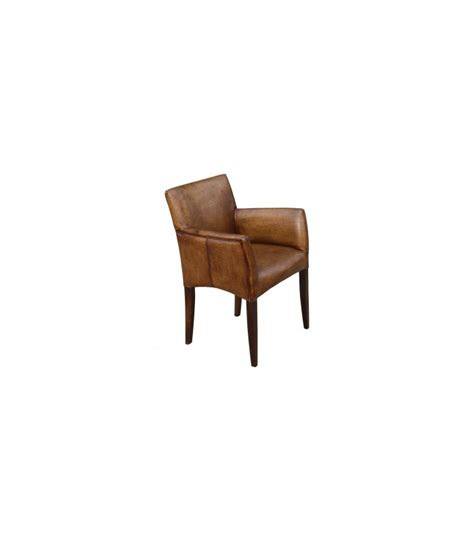cuero: (163, 173, 311, 302)
